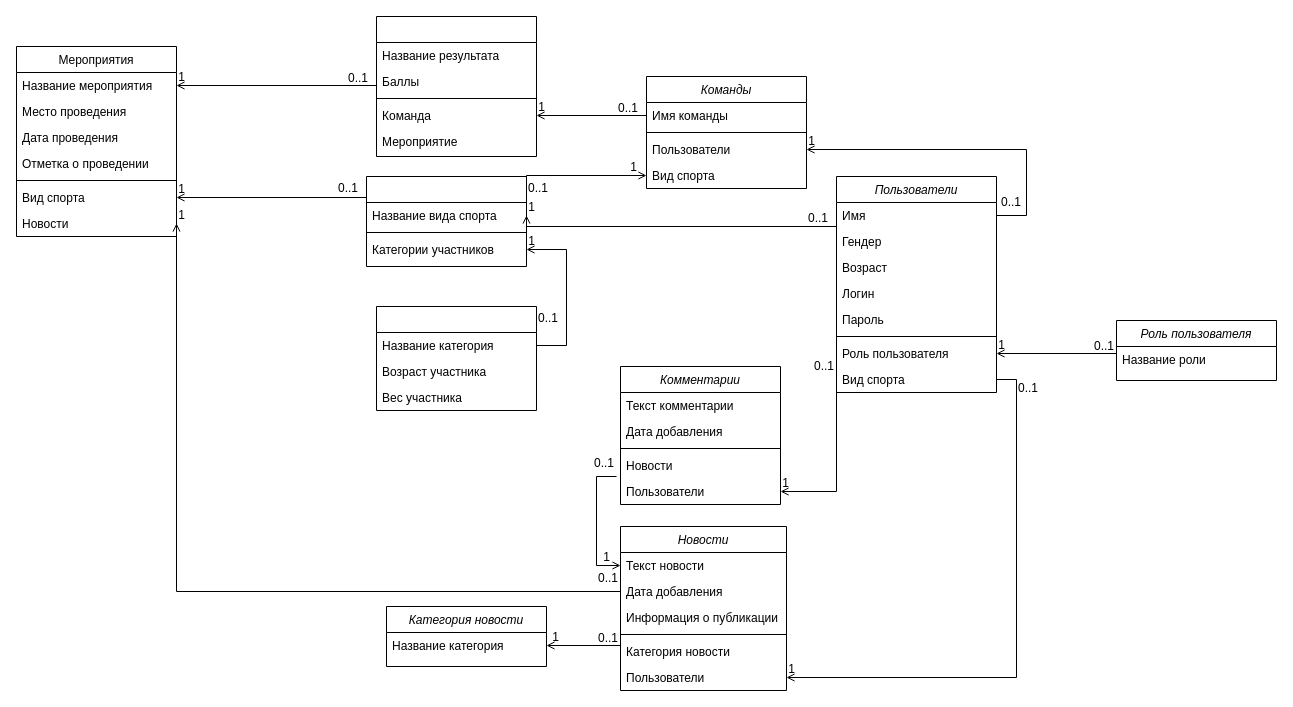
Image size: 1293x707. Some labels were removed from this diagram. The box of each missing label's shape, as (x1, y1, x2, y2) in pixels:
Виды спорта: (366, 176, 526, 266)
Категория участников: (376, 306, 536, 410)
Результаты: (376, 16, 536, 156)
